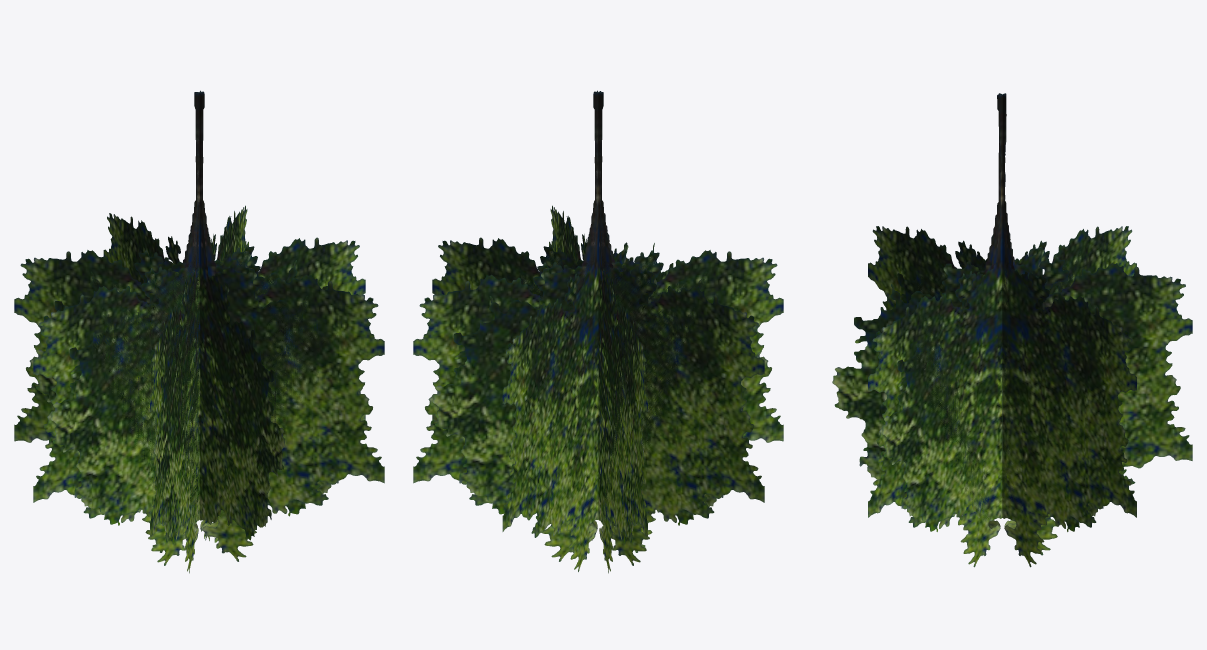
File: strom.fbx
3 views of the same model, side by side, from view 1: azimuth 30°, elevation 25°; view 2: azimuth 150°, elevation 25°; view 3: azimuth 270°, elevation 25° (orthographic).
Parts seen in each view (by area): view 1: Plane; view 2: Plane; view 3: Plane.
Part boxes in pixels (box(x1,y1,x2,y2)): Plane: box(14, 90, 384, 573); Plane: box(413, 90, 783, 573); Plane: box(832, 93, 1192, 567).
Size of the model in its own units: 4.87 by 6.52 by 4.87.
Materials: 1 (1 with a texture image).
